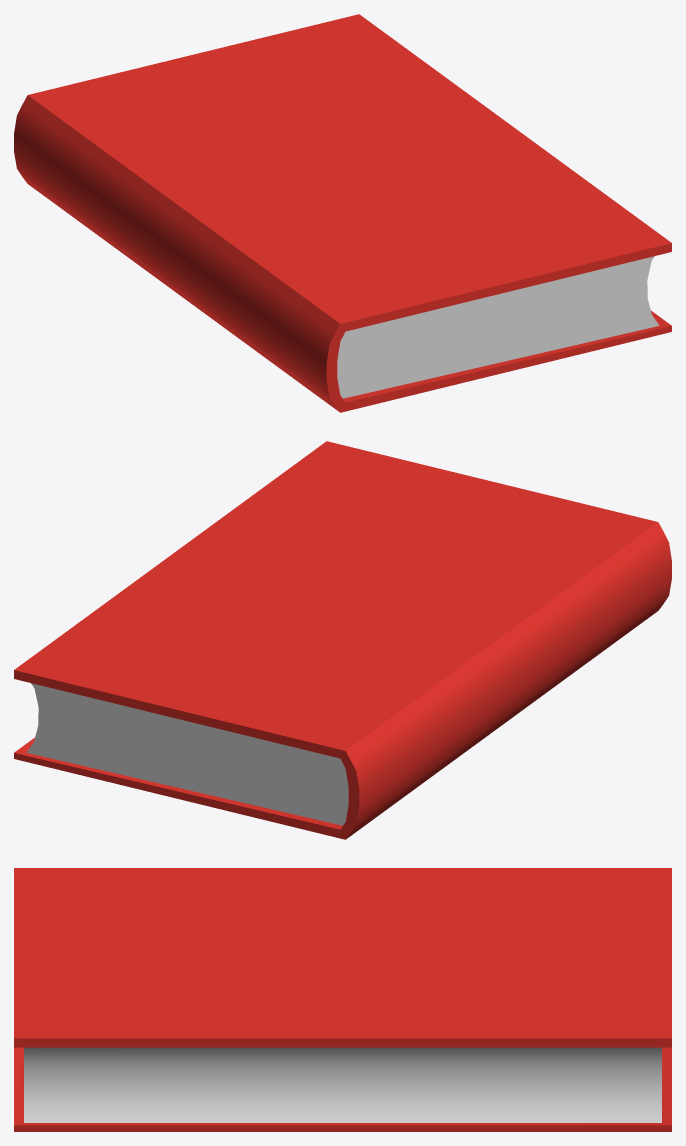
The model's file is Buch.fbx.
3 views of the same model, one above another, from view 1: azimuth 30°, elevation 25°; view 2: azimuth 150°, elevation 25°; view 3: azimuth 270°, elevation 25° (orthographic). The views are drawn at different scales.
Parts seen in each view (by area): view 1: Buch; view 2: Buch; view 3: Buch.
Boxes of the visible parts, <box> form: Buch: <box>14,14,671,412</box>; Buch: <box>14,441,671,839</box>; Buch: <box>14,868,671,1131</box>.
Size of the model in its own units: 0.2266 by 0.0557 by 0.3554.
